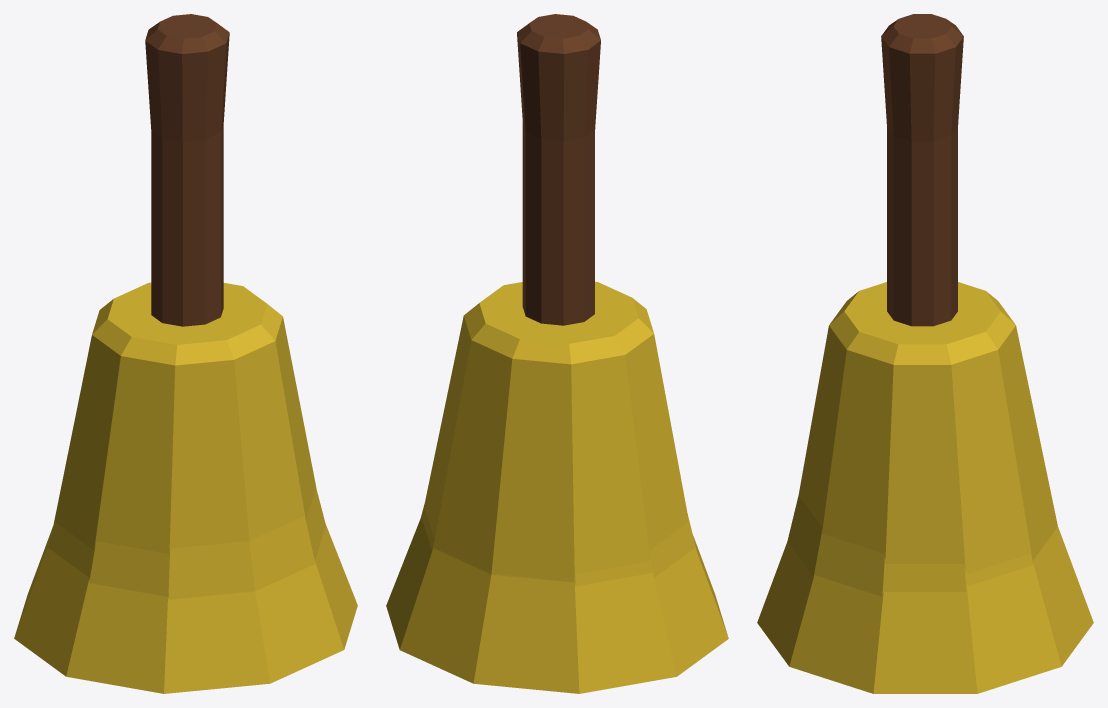
The model's file is Bell.obj.
The picture shows the model from 3 angles, left to right: view 1: azimuth 30°, elevation 25°; view 2: azimuth 150°, elevation 25°; view 3: azimuth 270°, elevation 25°; orthographic projection.
Visible parts, largest first — view 1: Cylinder_Cylinder.001; view 2: Cylinder_Cylinder.001; view 3: Cylinder_Cylinder.001.
Boxes of the visible parts, x1=… form: Cylinder_Cylinder.001: x1=14, y1=14, x2=357, y2=693; Cylinder_Cylinder.001: x1=386, y1=14, x2=728, y2=693; Cylinder_Cylinder.001: x1=757, y1=14, x2=1093, y2=693.
Bounding box in the file's own units: 1.96 × 3.83 × 1.96.
